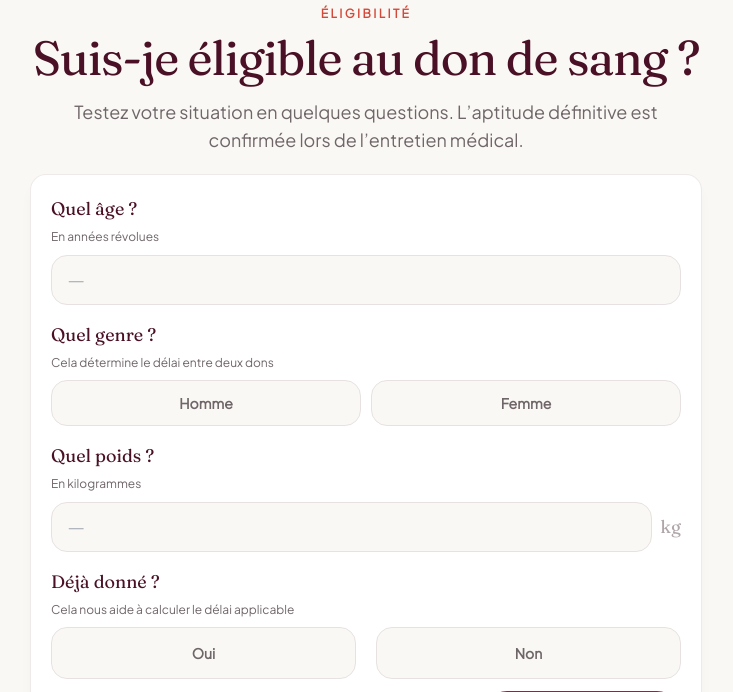
EligibilitySimulator › affiche éligible pour un profil valide sans don antérieur
The width and height of the screenshot is (733, 692).
Type "30" into the number field labelled "Quel âge ?".
click(366, 280); type("30")  # box x1=51 y1=254 x2=681 y2=304
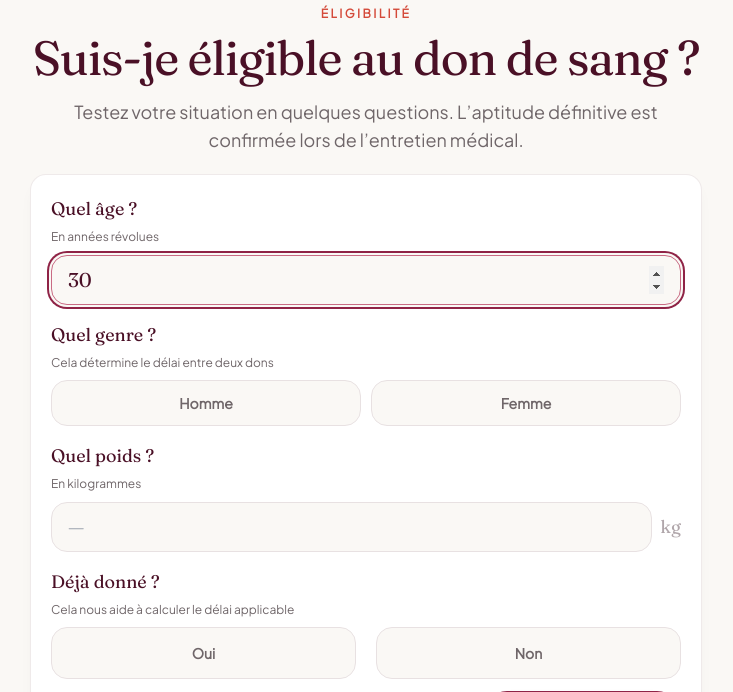
Click the button "Homme".
click(206, 403)  # box x1=51 y1=380 x2=361 y2=426
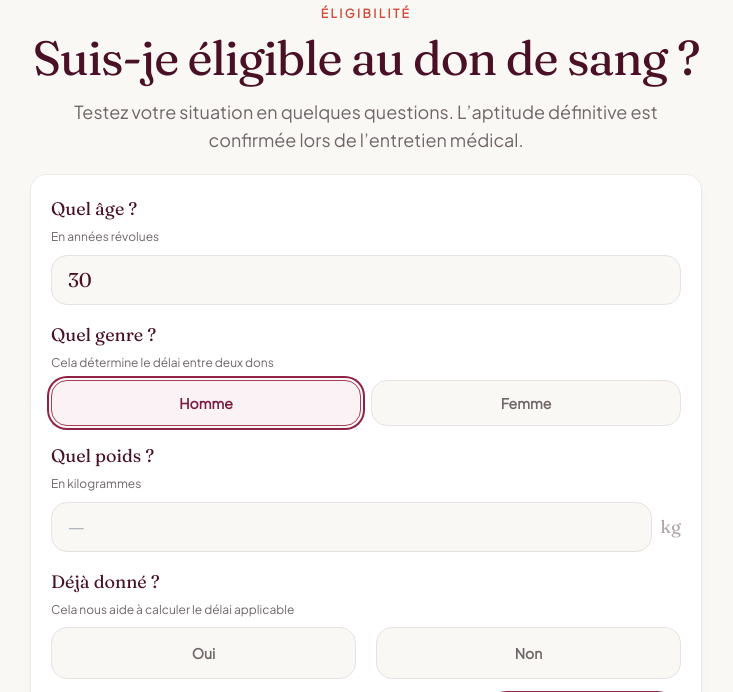
Type "70" into the number field labelled "Quel poids ?".
click(352, 526); type("70")  # box x1=51 y1=502 x2=652 y2=552
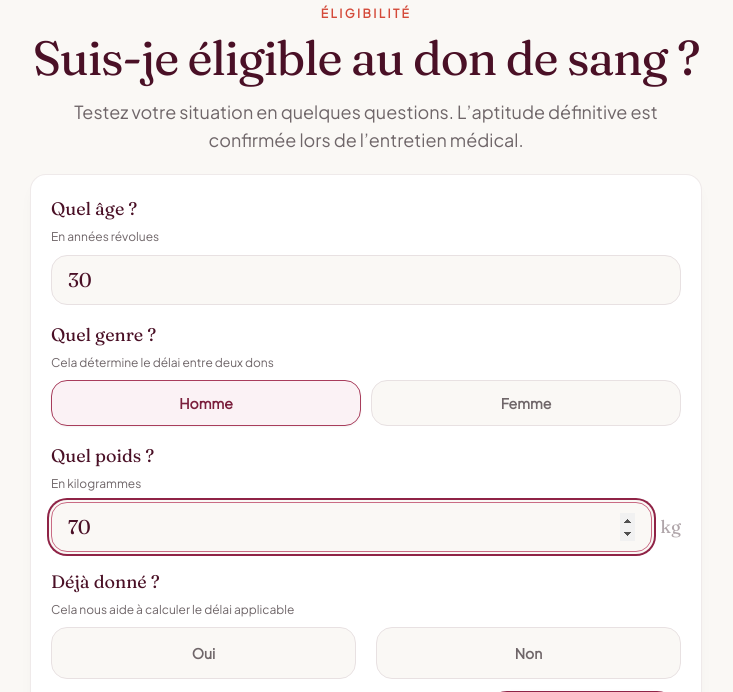
Click the button "Non".
click(528, 653)  # box x1=376 y1=627 x2=681 y2=679
(page scrolled)
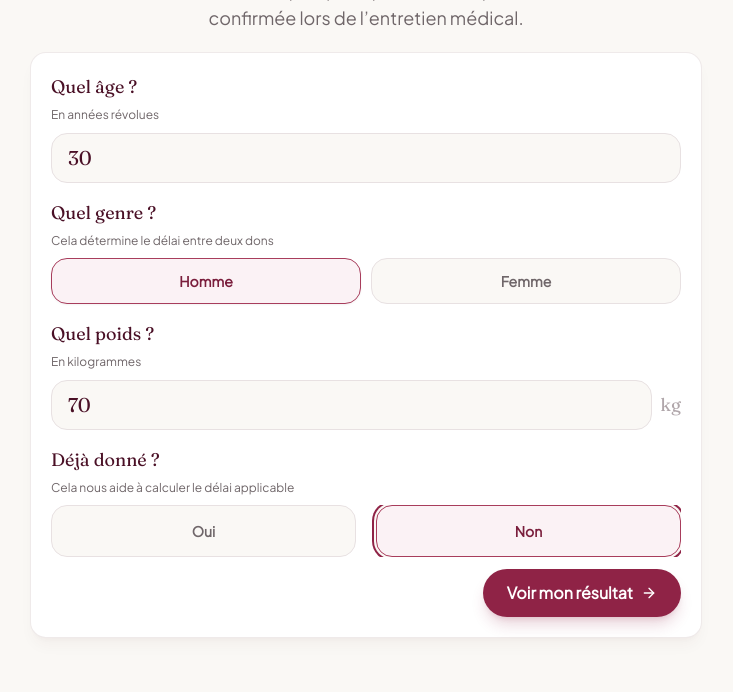
Click the button "Voir mon résultat".
click(582, 593)  # box x1=483 y1=569 x2=681 y2=617
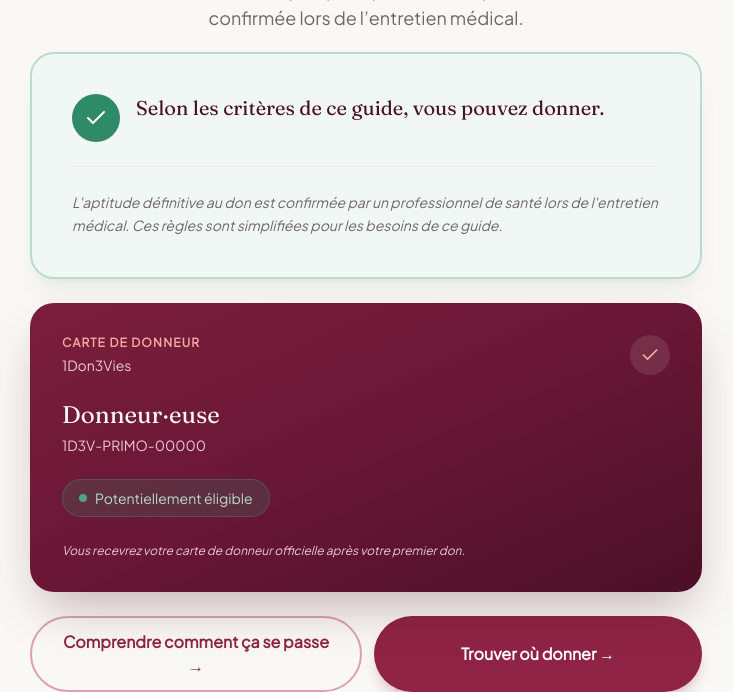
Result: the message shows "vous pouvez donner" at x1=136 y1=95 x2=604 y2=120
